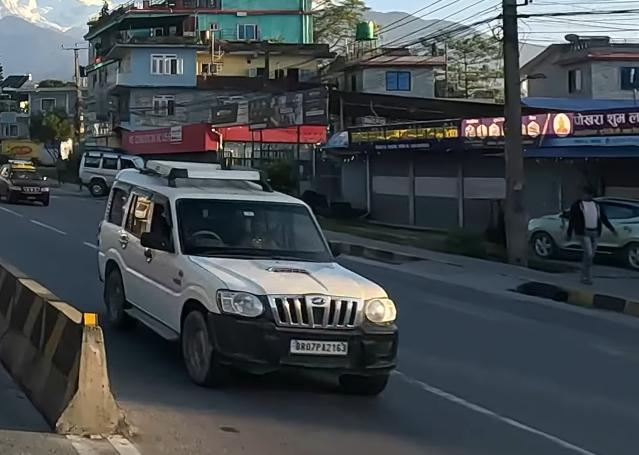SUV: (91, 149, 406, 400), (77, 146, 139, 196)
taxi: (0, 158, 53, 206)
